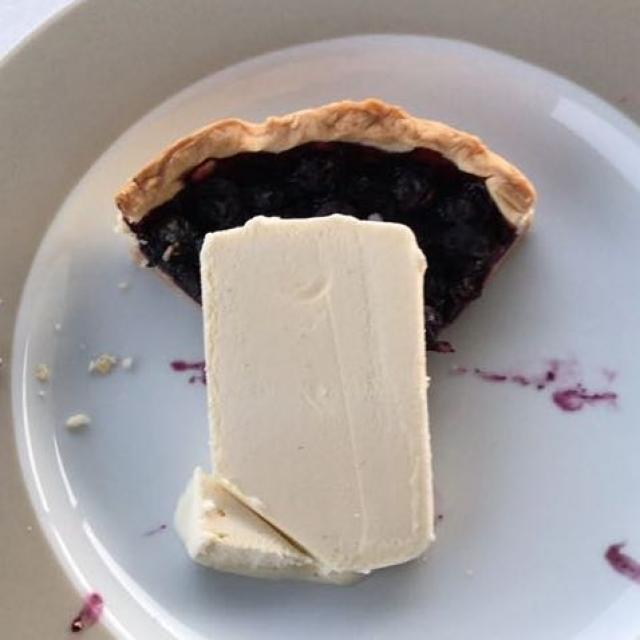ice-cream: (189, 215, 436, 571)
